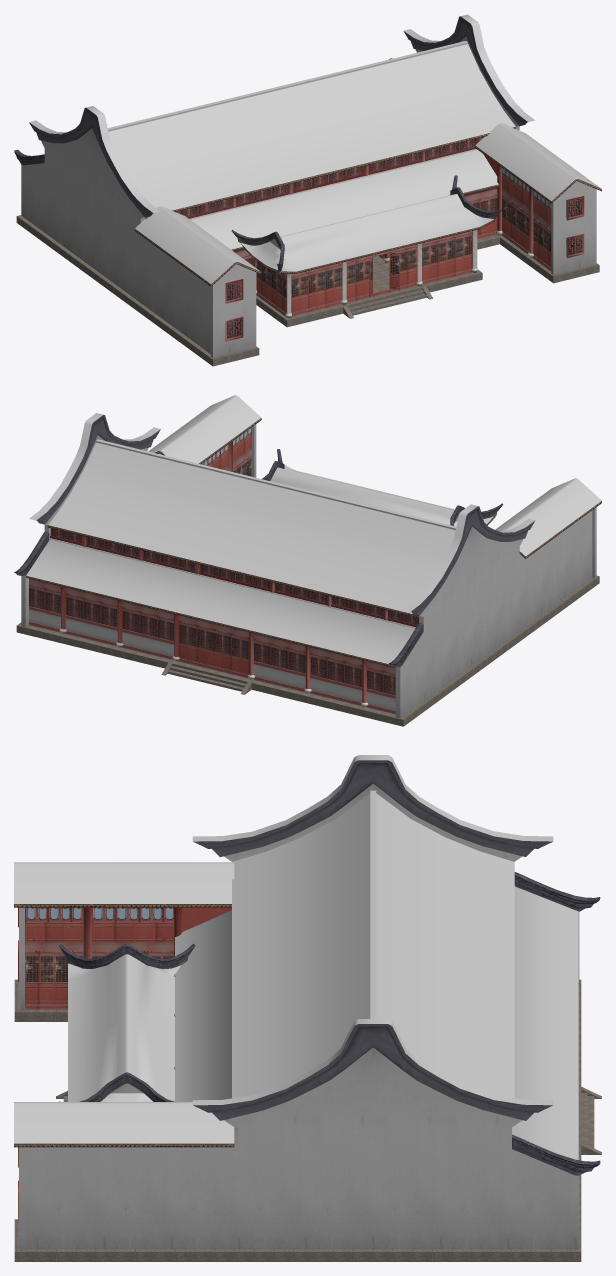
File: Hourse06.FBX
The picture shows the model from 3 angles, top to bottom: view 1: azimuth 30°, elevation 25°; view 2: azimuth 150°, elevation 25°; view 3: azimuth 270°, elevation 25°; orthographic projection. The views are drawn at different scales.
Visible parts, largest first — view 1: 对象10, 对象99, 对象40, 对象24, 对象28, Box04, 对象12, 对象42, 对象39, 对象07, 对象15, 对象14 (+12 smaller); view 2: 对象10, 对象99, 对象93, 对象28, Box04, 对象61, 对象71, 对象72, 对象69, 对象24, 对象96, 对象42 (+13 smaller); view 3: 对象99, 对象10, 对象28, 对象93, 对象24, 对象42, 对象40, Box04, 对象14, 对象34, 对象16, 对象100 (+6 smaller).
Part boxes in pixels (x1,y1,x2,y2): 对象10: (107, 41, 515, 210); 对象99: (21, 36, 596, 357); 对象40: (189, 149, 498, 249); 对象24: (241, 194, 493, 271); 对象28: (135, 123, 600, 283); Box04: (16, 215, 599, 366); 对象12: (291, 231, 472, 316); 对象42: (29, 16, 527, 217); 对象39: (134, 126, 601, 286); 对象07: (346, 244, 417, 303); 对象15: (180, 136, 484, 216); 对象14: (29, 14, 535, 213); 对象10: (48, 439, 456, 613); 对象99: (21, 424, 596, 718); 对象93: (26, 538, 415, 664); 对象28: (148, 395, 601, 556); Box04: (16, 575, 599, 726); 对象61: (65, 587, 362, 705); 对象71: (121, 601, 305, 692); 对象72: (29, 609, 395, 710); 对象69: (178, 615, 249, 678); 对象24: (270, 465, 493, 526); 对象96: (50, 528, 418, 624); 对象42: (36, 415, 534, 615); 对象99: (19, 783, 579, 1250); 对象10: (232, 790, 514, 1098); 对象28: (14, 862, 234, 1143); 对象93: (512, 886, 578, 1159); 对象24: (68, 954, 180, 1101); 对象42: (193, 760, 552, 1120); 对象40: (175, 910, 231, 1101); Box04: (14, 979, 581, 1261); 对象14: (192, 755, 553, 1105); 对象34: (25, 907, 231, 942); 对象16: (25, 942, 83, 1009); 对象100: (512, 872, 600, 1175).
Size of the model in its own units: 29.62 by 11.85 by 26.74.
